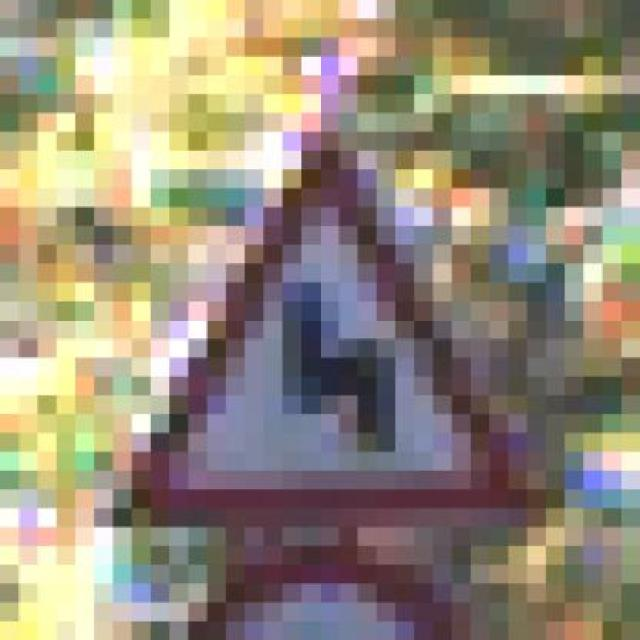Left Zig Zag Traffic: (57, 112, 546, 565)
